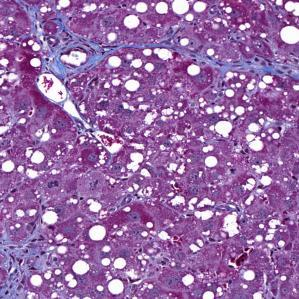fibrosis: (31, 28, 108, 86)
